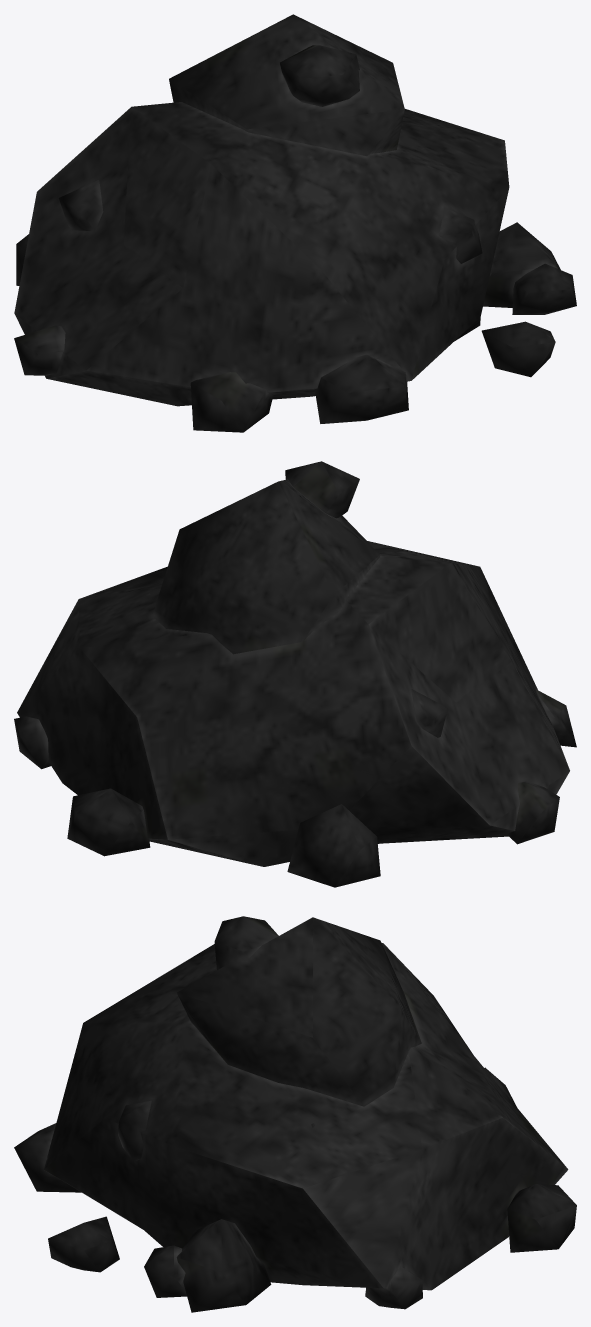
The model's file is carbon.glb.
3 renders of one model, top to bottom at view 1: azimuth 30°, elevation 25°; view 2: azimuth 150°, elevation 25°; view 3: azimuth 270°, elevation 25°, orthographic.
Parts seen in each view (by area): view 1: te_res_carbon; view 2: te_res_carbon; view 3: te_res_carbon.
Part boxes in pixels (x1,y1,x2,y2): te_res_carbon: [14, 14, 576, 432]; te_res_carbon: [14, 461, 576, 887]; te_res_carbon: [14, 916, 576, 1312].
Size of the model in its own units: 0.5796 by 0.3303 by 0.5682.
Materials: 1 (1 with a texture image).
